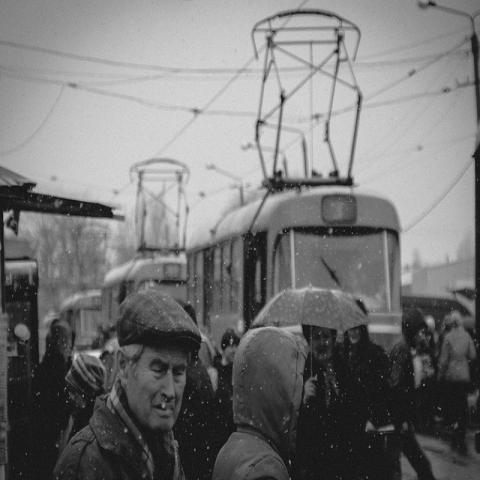bus: (188, 184, 402, 352), (51, 290, 117, 351)
